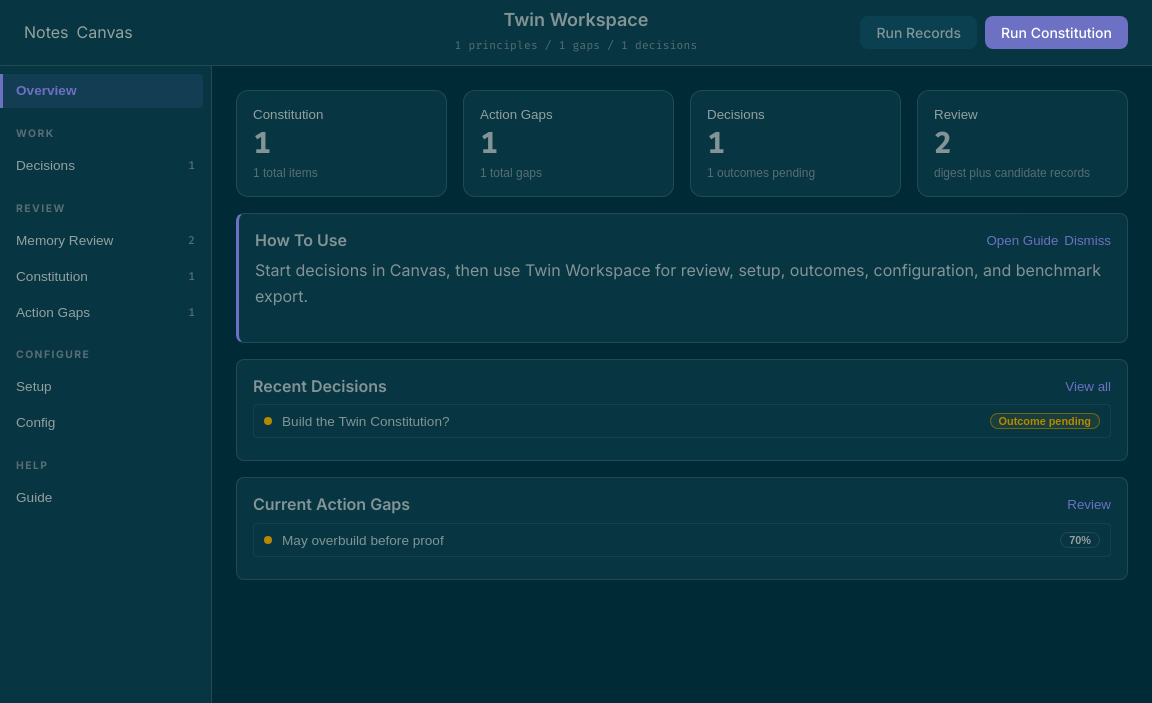
Test: TwinReviewView › shows the tutorial, can dismiss it, and reopens the full guide
Click the button "Dismiss" at (1088, 240), box [1064, 232, 1111, 248]
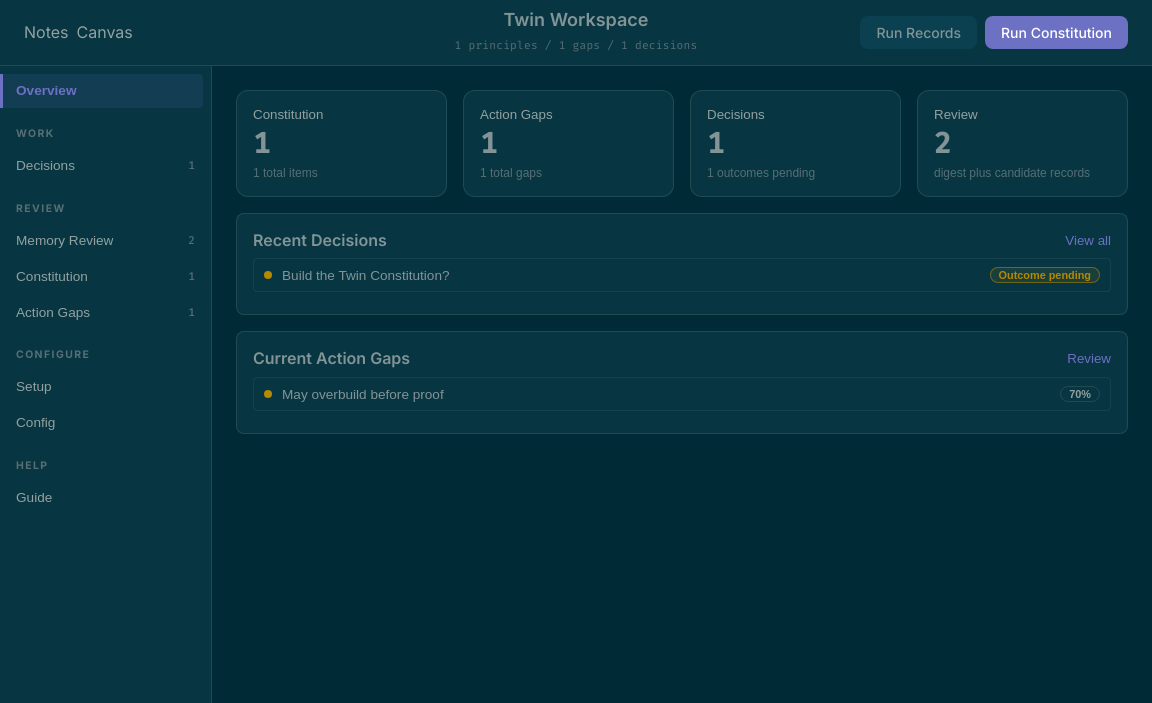
Click the button with class "tab-button" showing "Guide" at (102, 498), box [0, 480, 203, 514]
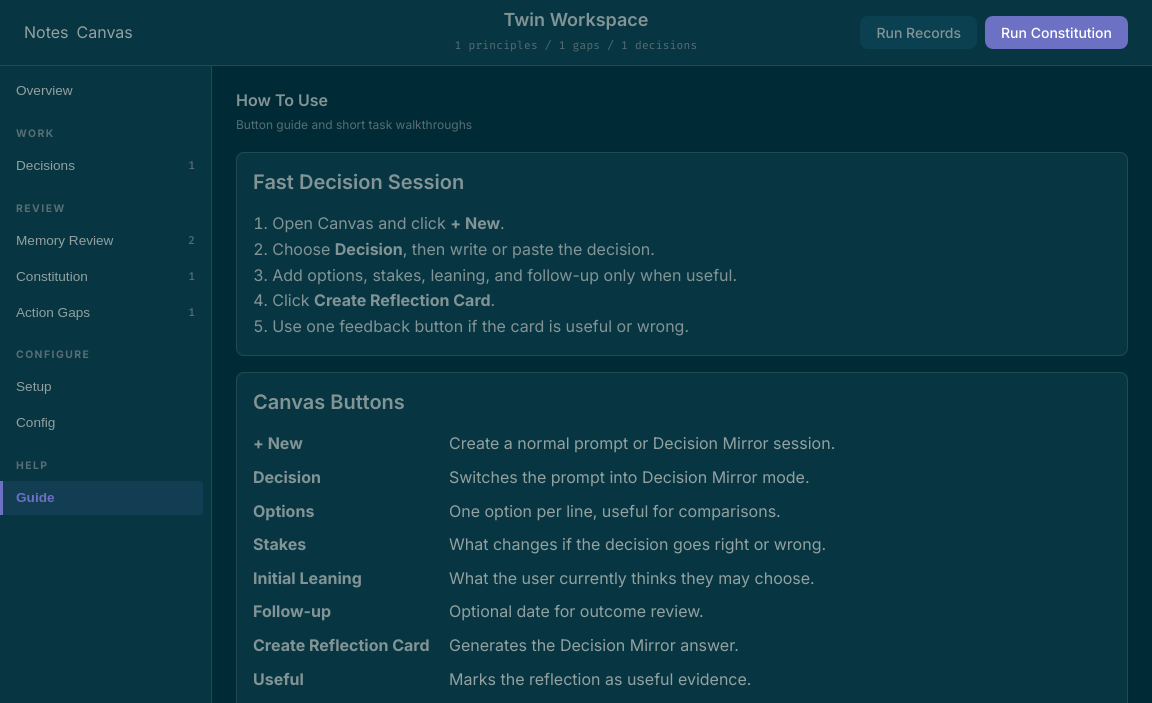
Expected: the text "Canvas Buttons" is shown, [253, 390, 405, 414]
Expected: the text "Create Reflection Card" is shown, [314, 290, 491, 310]
